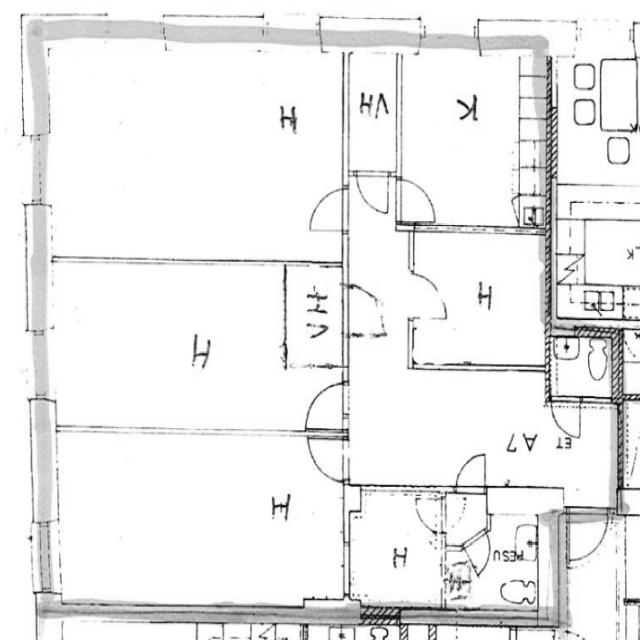door: (566, 505, 612, 564), (303, 182, 348, 237), (396, 175, 441, 228), (302, 378, 346, 432), (306, 433, 351, 483), (409, 269, 449, 320), (354, 168, 394, 218), (452, 449, 491, 494), (549, 394, 584, 442), (620, 326, 640, 399), (414, 494, 446, 535)
window: (418, 22, 480, 52), (337, 534, 354, 598), (452, 603, 472, 616)
zone: (41, 44, 321, 266), (44, 432, 345, 612), (48, 263, 294, 432), (394, 42, 542, 230), (411, 232, 551, 371), (551, 186, 639, 324), (558, 44, 640, 187), (346, 493, 443, 609), (468, 505, 561, 619), (347, 46, 400, 177), (283, 264, 345, 371), (548, 334, 618, 402), (442, 491, 489, 551), (618, 399, 640, 494), (440, 551, 477, 606), (620, 329, 640, 402)
